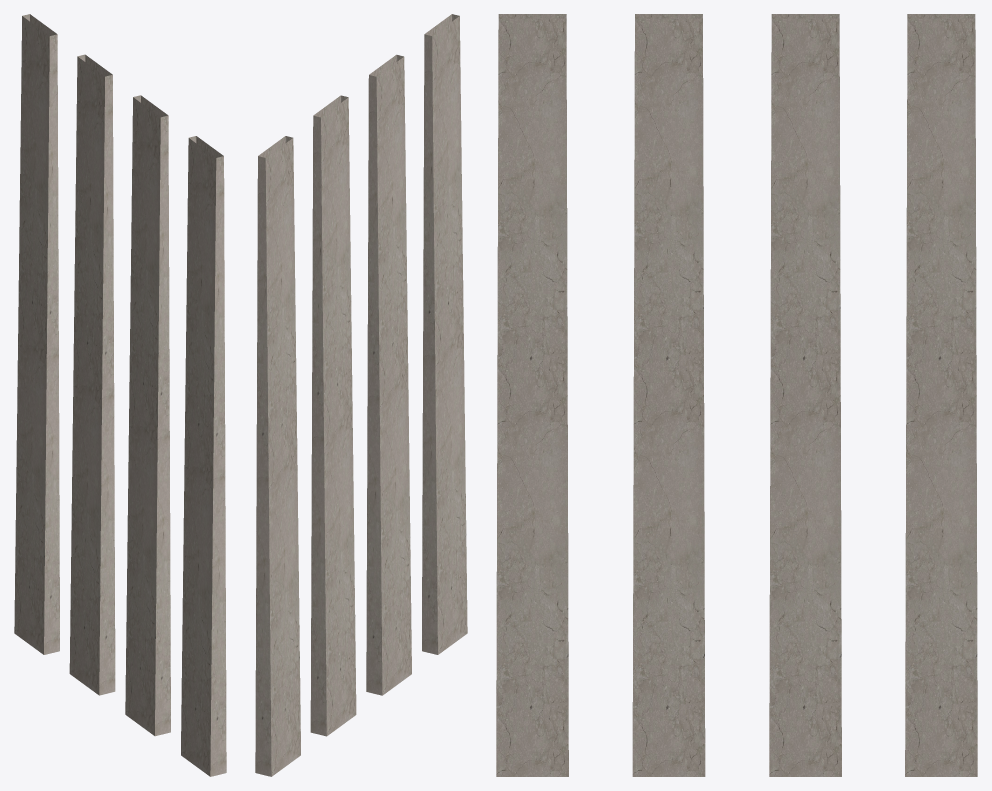
File: pasted__marble_tile_110.fbx
The picture shows the model from 3 angles, left to right: view 1: azimuth 30°, elevation 25°; view 2: azimuth 150°, elevation 25°; view 3: azimuth 270°, elevation 25°; orthographic projection. The views are drawn at different scales.
Parts seen in each view (by area): view 1: pasted__marble_tile_110; view 2: pasted__marble_tile_110; view 3: pasted__marble_tile_110.
Part boxes in pixels (box(x1,y1,x2,y2)): pasted__marble_tile_110: box(14, 14, 226, 776); pasted__marble_tile_110: box(255, 14, 467, 776); pasted__marble_tile_110: box(496, 14, 977, 776).
Size of the model in its own units: 16.42 by 345 by 599.
